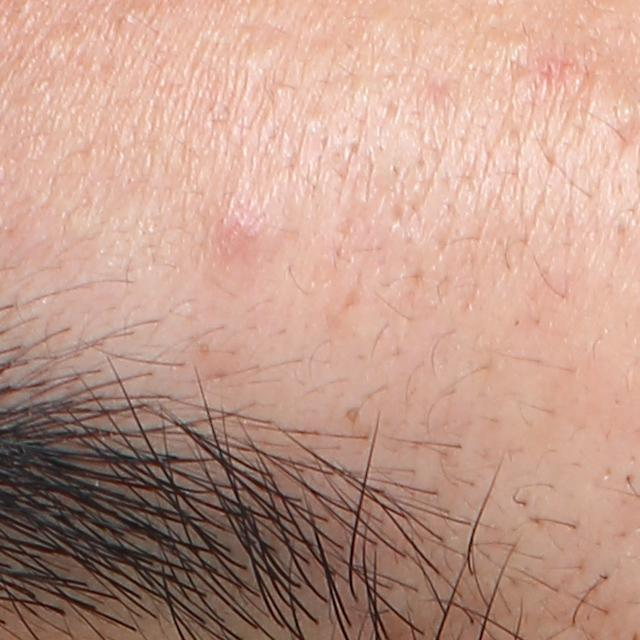atrophic_scar: (610, 113, 640, 150)
comedo: (343, 403, 361, 427)
papule: (212, 204, 267, 257)
